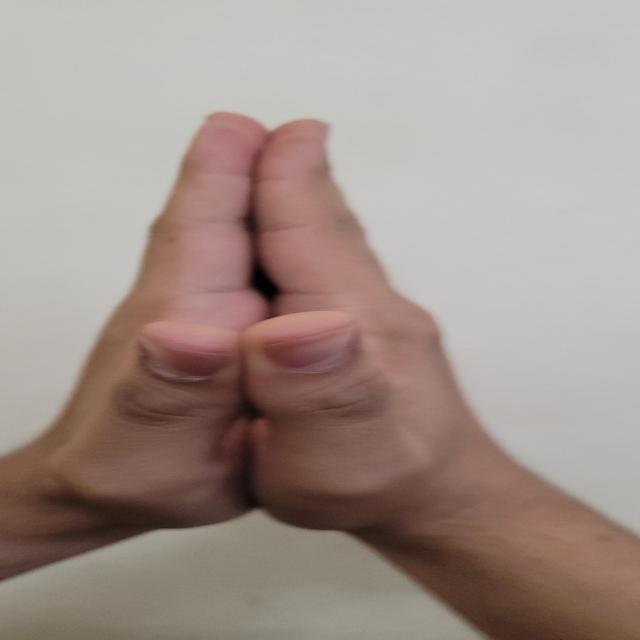Thank You: (1, 81, 558, 563)
